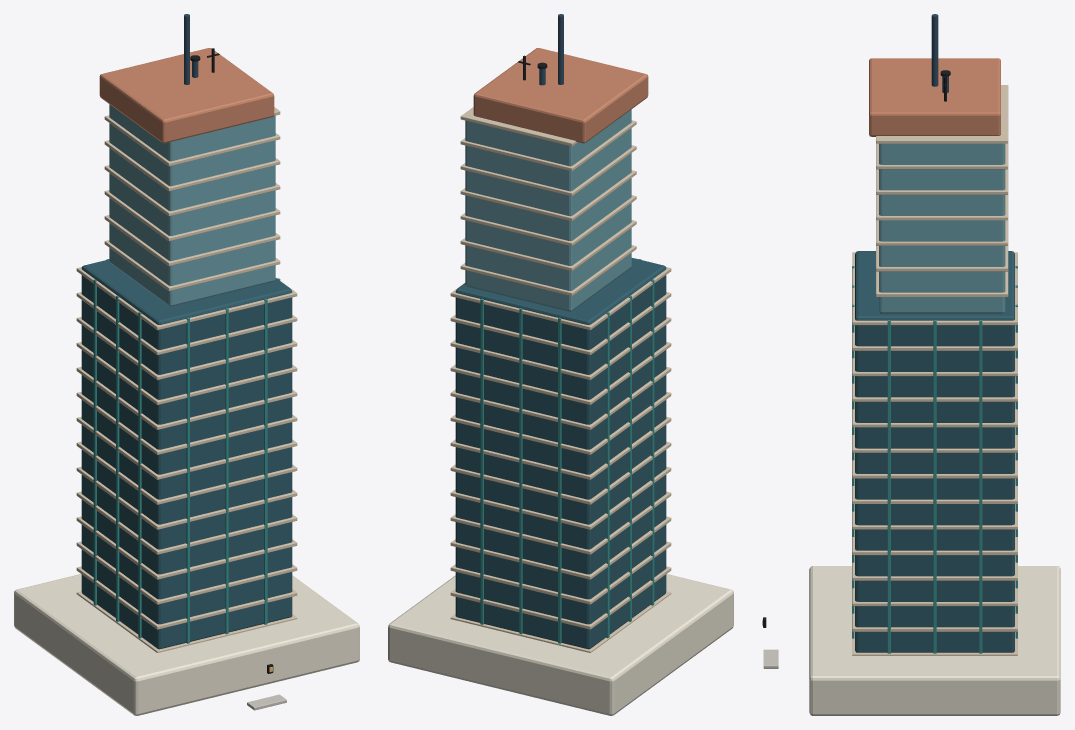
Rendered from RES_TOWER_3x3_002.glb.
The picture shows the model from 3 angles, left to right: view 1: azimuth 30°, elevation 25°; view 2: azimuth 150°, elevation 25°; view 3: azimuth 270°, elevation 25°; orthographic projection. The views are drawn at different scales.
Parts seen in each view (by area): view 1: RES_TOWER_3x3_002_Visual; view 2: RES_TOWER_3x3_002_Visual; view 3: RES_TOWER_3x3_002_Visual.
Part boxes in pixels (bbox=[...]): RES_TOWER_3x3_002_Visual: bbox=[14, 14, 359, 715]; RES_TOWER_3x3_002_Visual: bbox=[388, 14, 733, 715]; RES_TOWER_3x3_002_Visual: bbox=[762, 14, 1060, 715].
Size of what is drawn, in the model's own units: 4.55 by 12.12 by 5.08.
